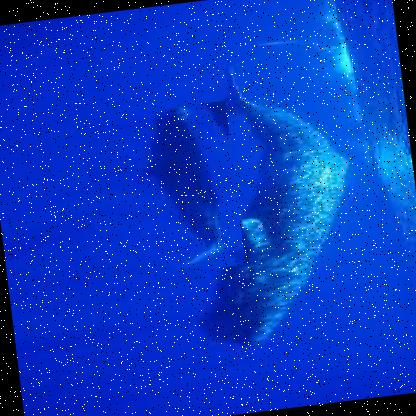sperm_whale: (177, 54, 374, 360), (80, 99, 244, 282)
